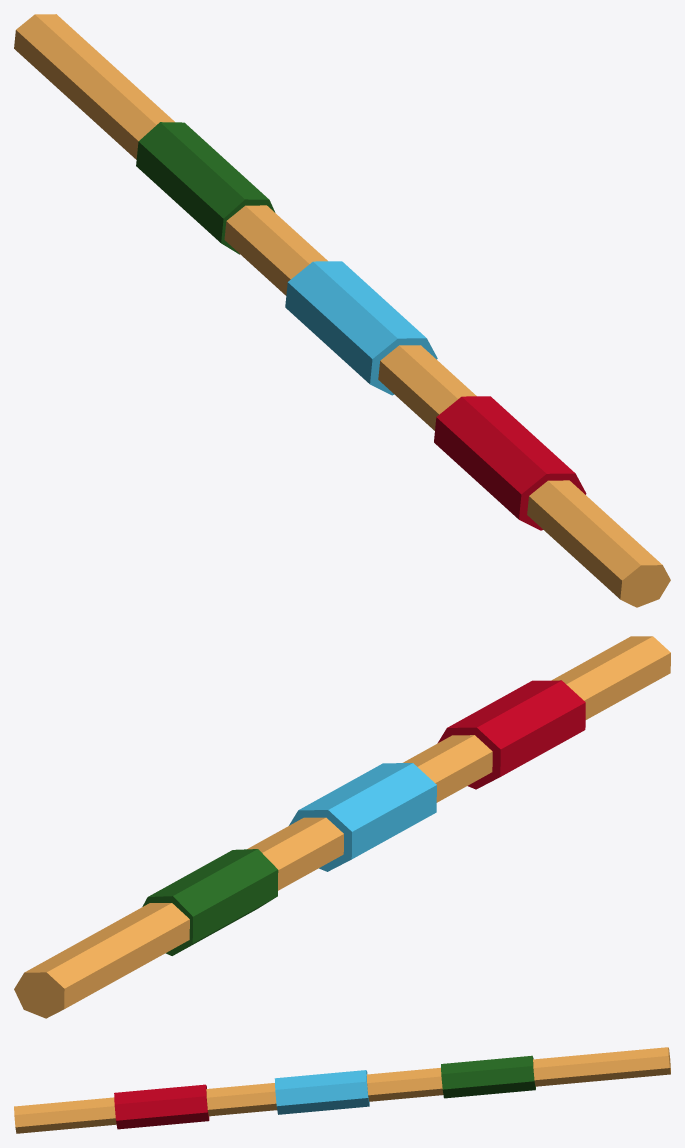
Rendered from blowgun.obj.
3 renders of one model, top to bottom at view 1: azimuth 30°, elevation 25°; view 2: azimuth 150°, elevation 25°; view 3: azimuth 270°, elevation 25°, orthographic. The views are drawn at different scales.
Visible parts, largest first — view 1: Cylinder.002_Cylinder.003; view 2: Cylinder.002_Cylinder.003; view 3: Cylinder.002_Cylinder.003.
Boxes of the visible parts, box(x1,y1,x2,y2) form: Cylinder.002_Cylinder.003: box(14, 14, 670, 607); Cylinder.002_Cylinder.003: box(14, 636, 670, 1018); Cylinder.002_Cylinder.003: box(14, 1047, 670, 1133).
Size of the model in its own units: 1.2 by 2.57 by 18.54.
1 material, 1 textured.
